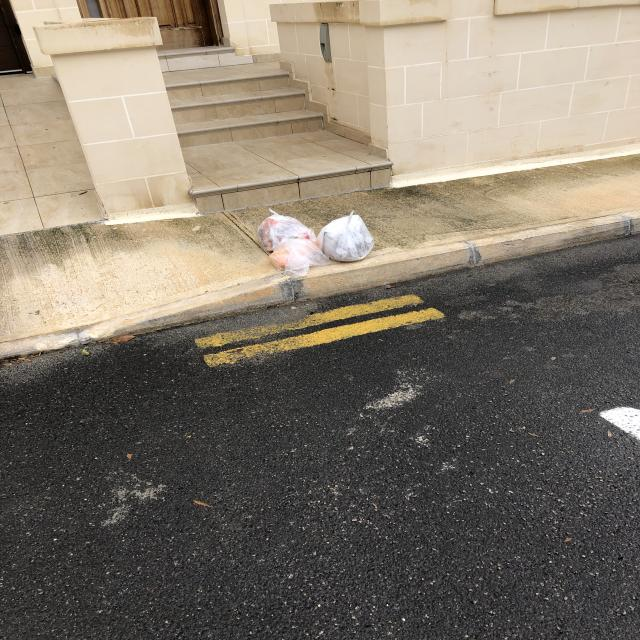Organic Waste -White Bag-: (257, 209, 324, 274), (321, 211, 373, 265)
